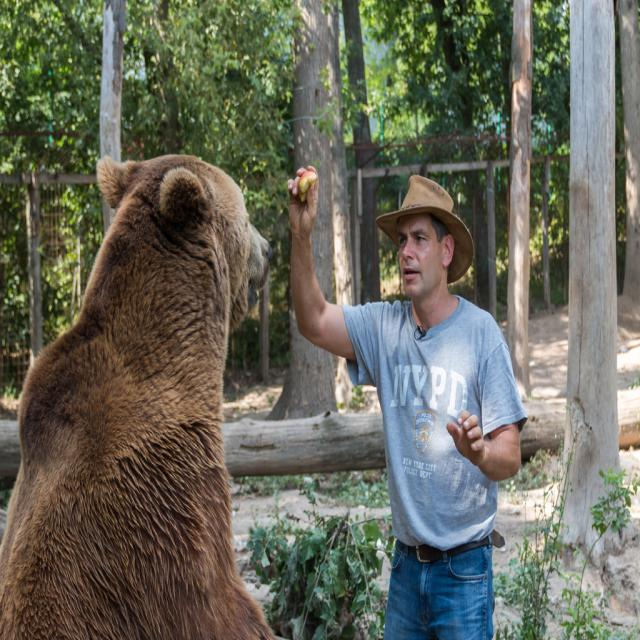Cheetahs: (2, 151, 284, 639)
